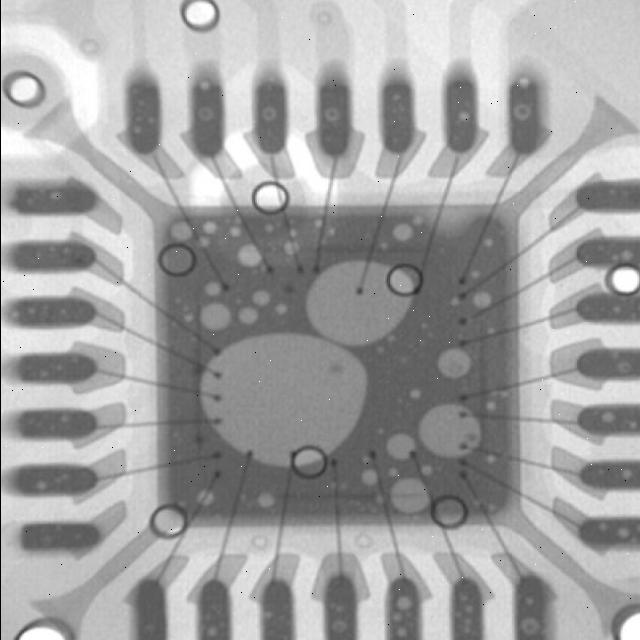Chip: (154, 206, 516, 527)
void: (201, 333, 366, 465), (306, 260, 411, 345), (419, 404, 478, 457), (389, 477, 430, 513), (437, 347, 470, 378), (199, 303, 230, 329), (386, 434, 414, 459), (237, 245, 261, 266), (170, 220, 192, 241), (238, 308, 258, 324), (392, 225, 411, 241), (252, 290, 269, 306), (362, 469, 377, 486), (205, 282, 220, 296)
